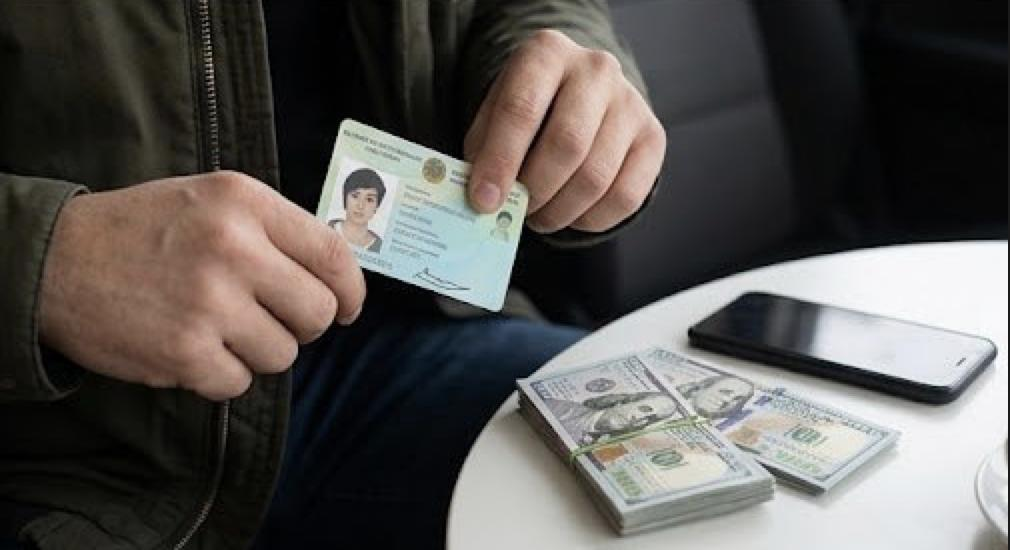cash_stack: (630, 344, 898, 508), (511, 371, 769, 524)
document: (302, 118, 530, 324)
